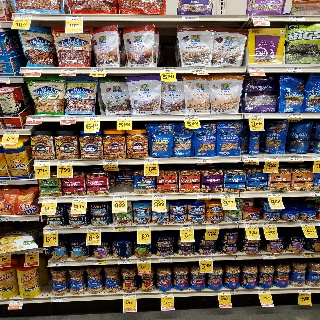All PRICE TAGS: (15, 15, 32, 21), (181, 16, 199, 21), (66, 15, 83, 20), (57, 160, 73, 165), (248, 114, 263, 119), (253, 16, 268, 21), (28, 116, 43, 121), (61, 116, 76, 121), (85, 116, 100, 121), (52, 297, 66, 302), (25, 249, 39, 254), (289, 156, 303, 161), (184, 115, 198, 120), (73, 197, 87, 202), (161, 292, 174, 297), (123, 294, 136, 299), (199, 256, 212, 261), (138, 258, 151, 263), (10, 299, 23, 304), (245, 223, 258, 228), (220, 193, 233, 198), (206, 224, 219, 229), (94, 260, 107, 265), (118, 259, 131, 264), (3, 131, 19, 135), (61, 69, 77, 73), (160, 68, 176, 72), (190, 68, 206, 72), (298, 288, 310, 293), (263, 254, 275, 259), (243, 157, 258, 161), (287, 68, 302, 72), (27, 69, 42, 73), (92, 68, 107, 72), (117, 116, 132, 120), (35, 161, 50, 165), (103, 160, 118, 164), (112, 196, 127, 200), (44, 229, 59, 233), (262, 223, 276, 227), (300, 222, 314, 226), (266, 193, 280, 197), (264, 157, 278, 161), (288, 114, 302, 118), (249, 68, 263, 72), (144, 159, 158, 163), (197, 158, 211, 162), (43, 198, 57, 202), (87, 228, 101, 232), (137, 226, 151, 230), (49, 262, 63, 266), (159, 258, 172, 262), (152, 195, 165, 199), (197, 194, 210, 198), (112, 227, 125, 231), (180, 225, 193, 229), (310, 192, 320, 197), (218, 291, 230, 295), (258, 289, 270, 293), (289, 17, 305, 20), (0, 77, 9, 82), (302, 254, 314, 257), (1, 217, 9, 221), (313, 156, 319, 161), (0, 181, 7, 185), (0, 253, 10, 254)
